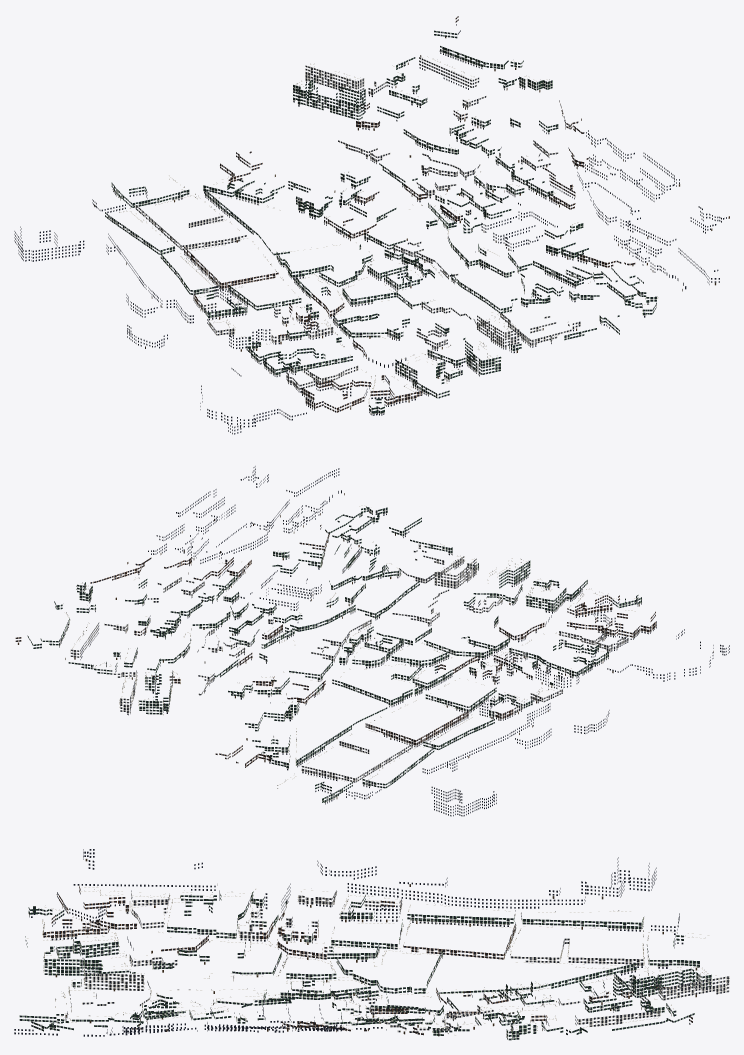
File: facades.glb
3 views of the same model, one above another, from view 1: azimuth 30°, elevation 25°; view 2: azimuth 150°, elevation 25°; view 3: azimuth 270°, elevation 25° (orthographic). The views are drawn at different scales.
Parts seen in each view (by area): view 1: T_W1_N2_facades; view 2: T_W1_N2_facades; view 3: T_W1_N2_facades.
Part boxes in pixels (x1,y1,x2,y2): T_W1_N2_facades: (14,16,729,434); T_W1_N2_facades: (15,466,729,816); T_W1_N2_facades: (14,849,729,1040).
Bounding box in the file's own units: 505 × 93.25 × 548.
